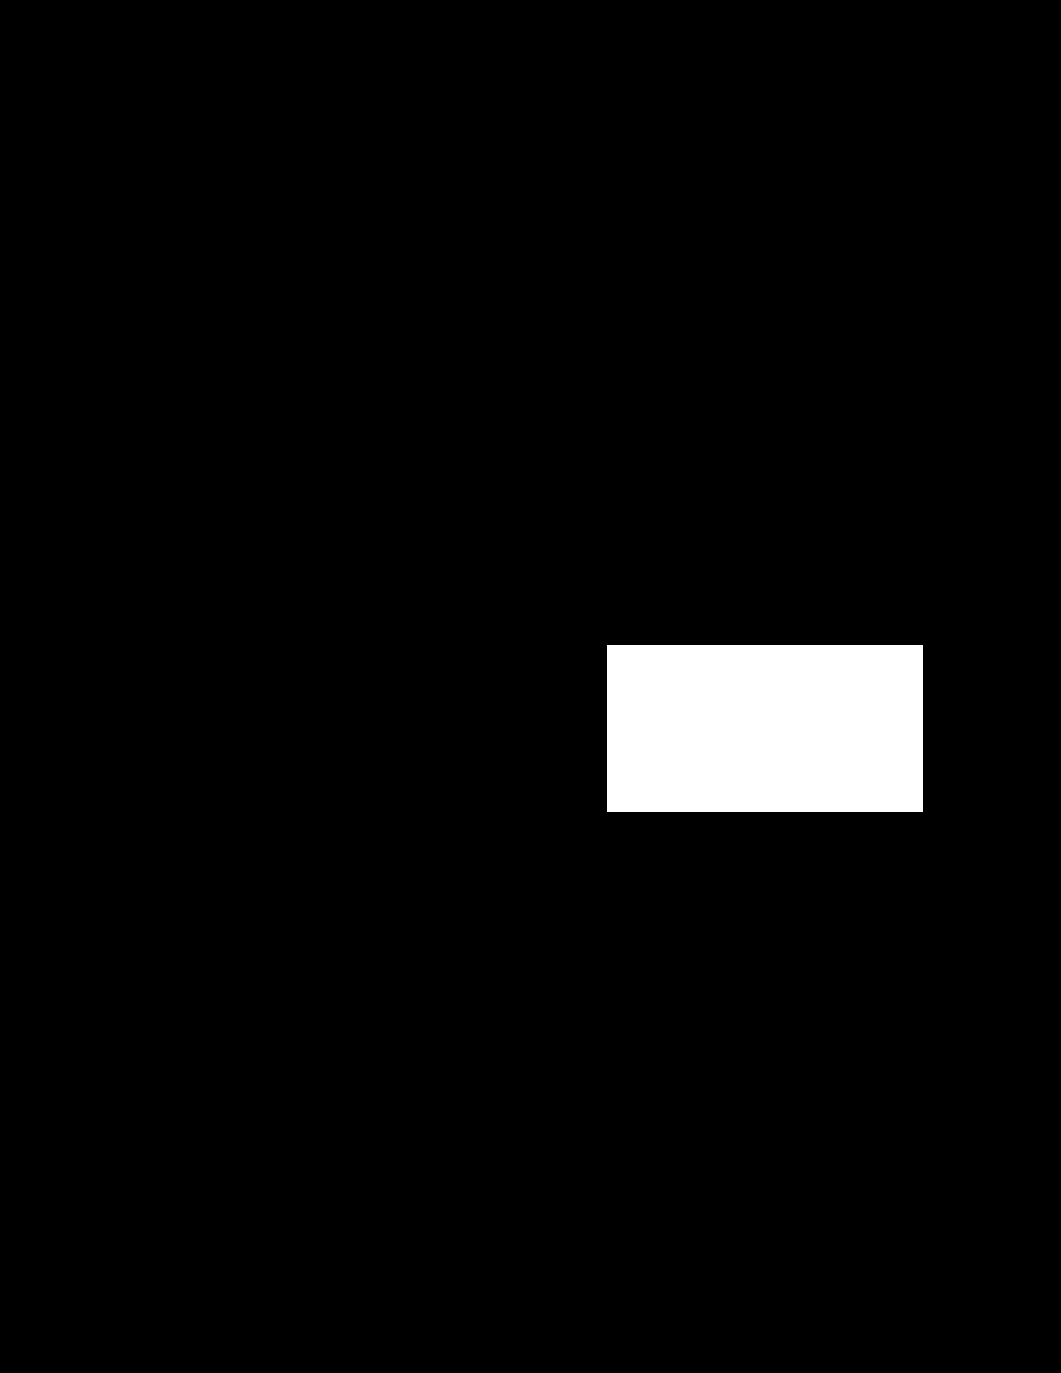table: (607, 645, 922, 811)
